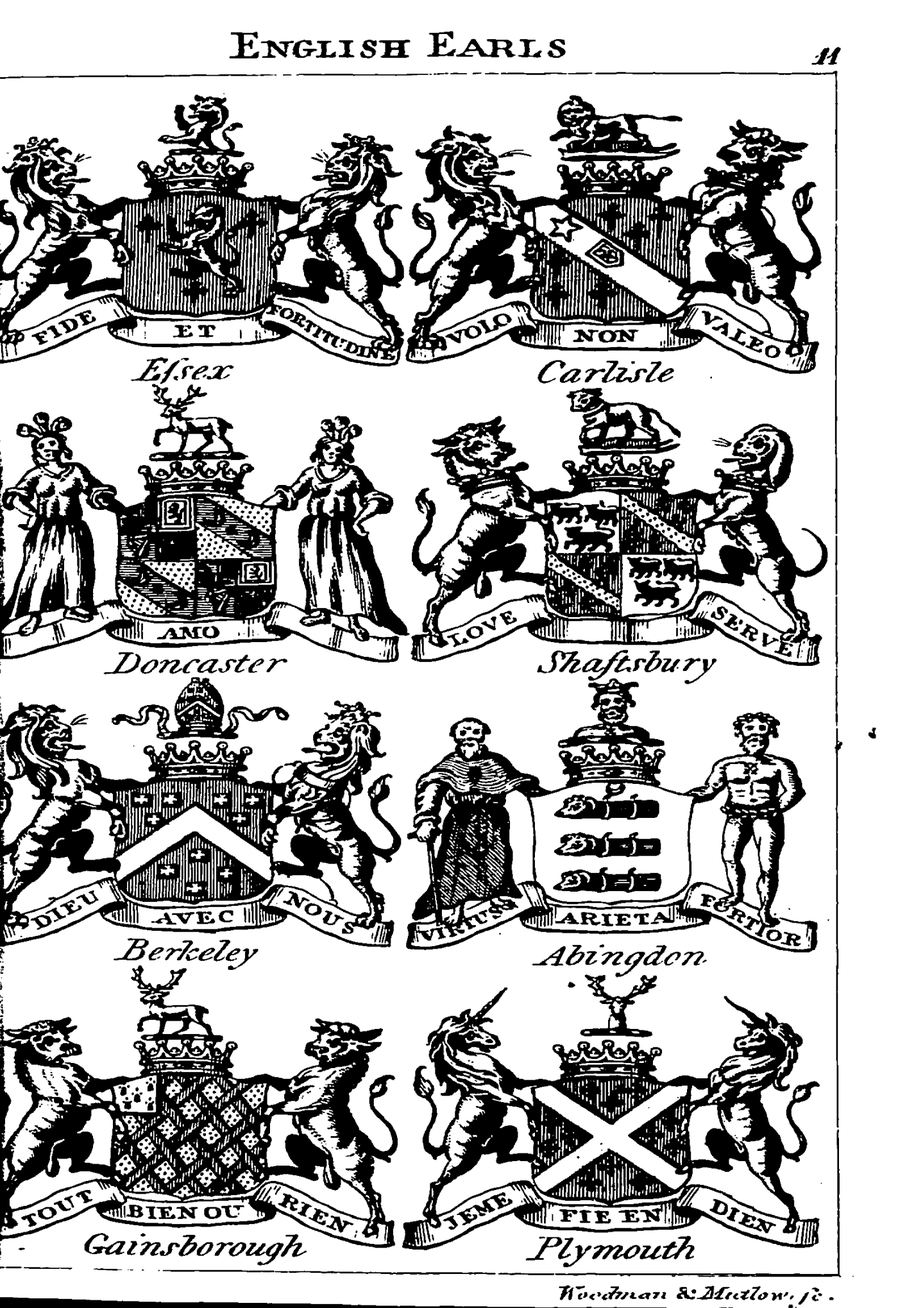coat_of_arms: (407, 79, 829, 396), (402, 680, 834, 977), (408, 973, 833, 1266), (3, 77, 402, 387), (406, 392, 827, 684), (8, 675, 394, 978), (10, 969, 397, 1266), (9, 390, 393, 685)
